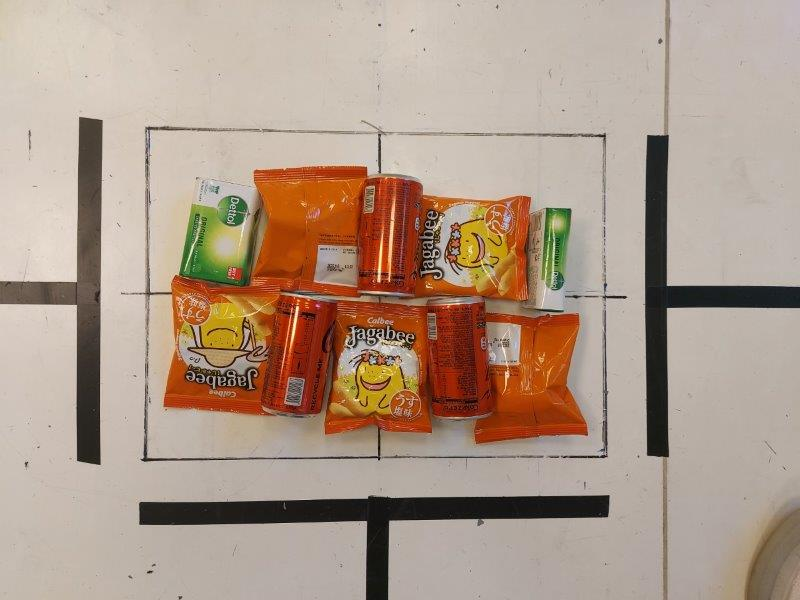Coke: (262, 292, 335, 416), (423, 295, 491, 420), (357, 174, 423, 297)
Dettol: (180, 177, 261, 286), (529, 206, 571, 312)
Jagabee: (163, 276, 278, 417), (251, 166, 366, 298), (475, 313, 588, 445), (420, 195, 531, 301)
